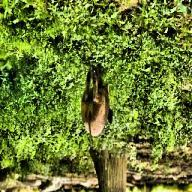boar: (80, 66, 112, 138)
